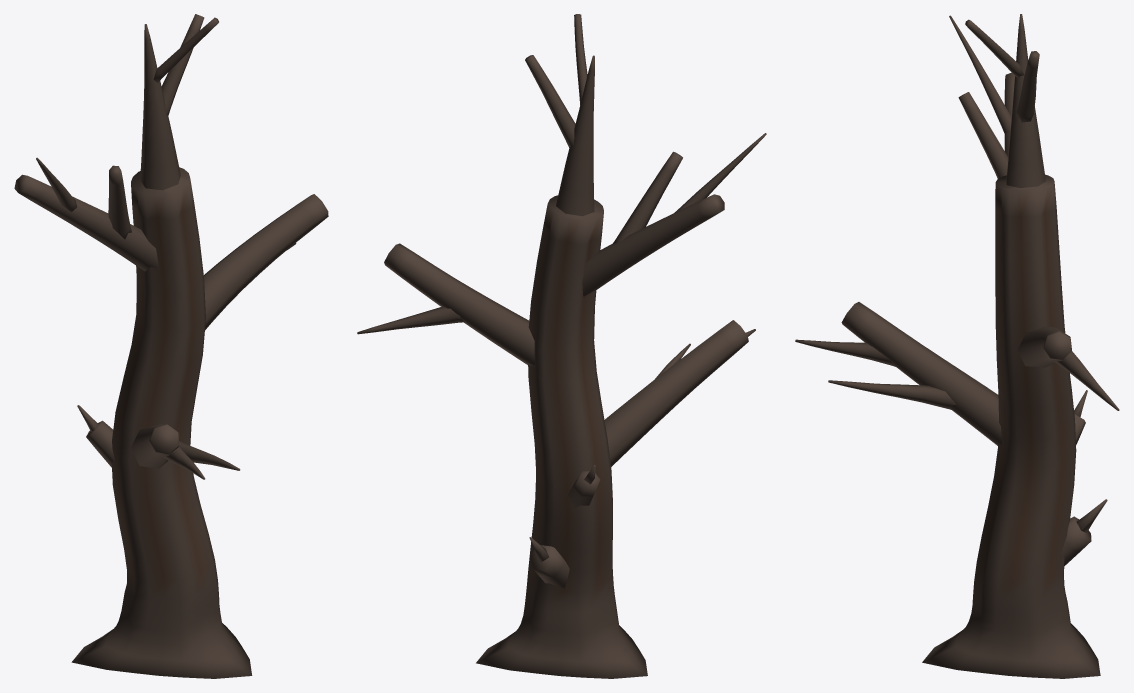
The model's file is deadtree.lod0.glb.
3 views of the same model, side by side, from view 1: azimuth 30°, elevation 25°; view 2: azimuth 150°, elevation 25°; view 3: azimuth 270°, elevation 25° (orthographic). The views are drawn at different scales.
Parts seen in each view (by area): view 1: deadtree_s1_lod0; view 2: deadtree_s1_lod0; view 3: deadtree_s1_lod0.
Part boxes in pixels (box(x1,y1,x2,y2)): deadtree_s1_lod0: box(14, 14, 328, 678); deadtree_s1_lod0: box(357, 14, 766, 678); deadtree_s1_lod0: box(795, 14, 1119, 678).
Size of the model in its own units: 4.26 by 7.67 by 3.5.
